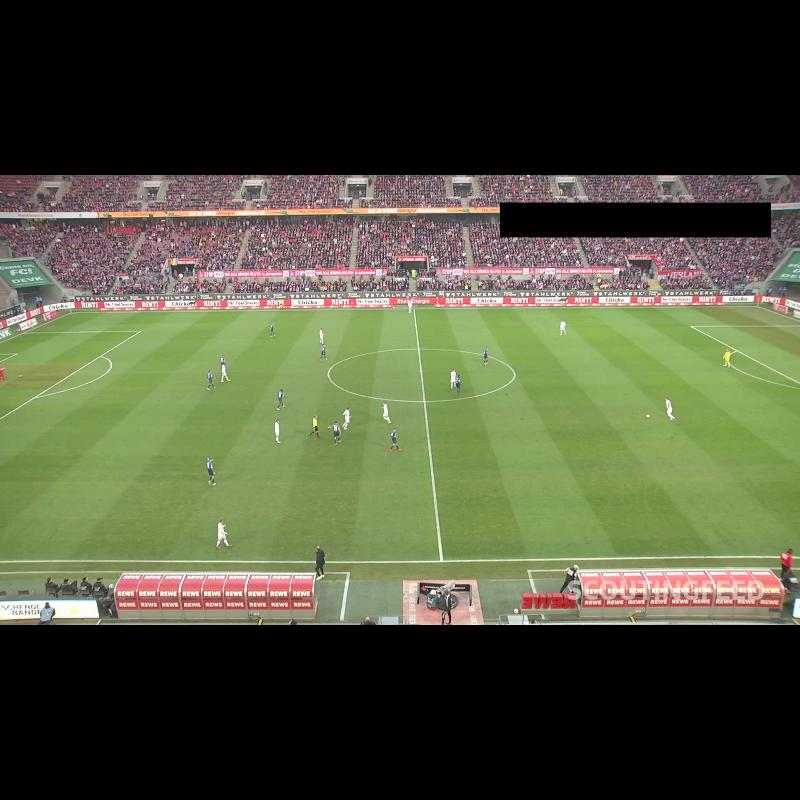cross_recipient_zone: (0, 331, 141, 419), (691, 325, 800, 384)
crossing_player_zone: (0, 449, 89, 537), (24, 310, 245, 333), (582, 307, 800, 327), (775, 448, 800, 468)
pitch: (0, 306, 800, 561)
